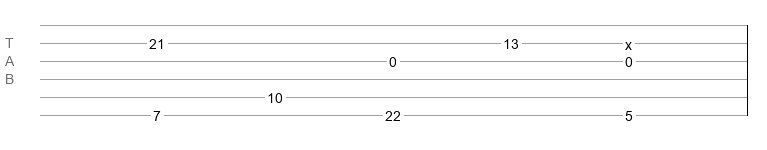0: (389, 54, 397, 64), (625, 54, 633, 64)
10: (267, 90, 283, 100)
13: (503, 36, 519, 46)
21: (149, 36, 165, 46)
22: (385, 108, 401, 118)
5: (625, 108, 633, 118)
7: (153, 108, 161, 118)
x: (625, 37, 632, 45)
